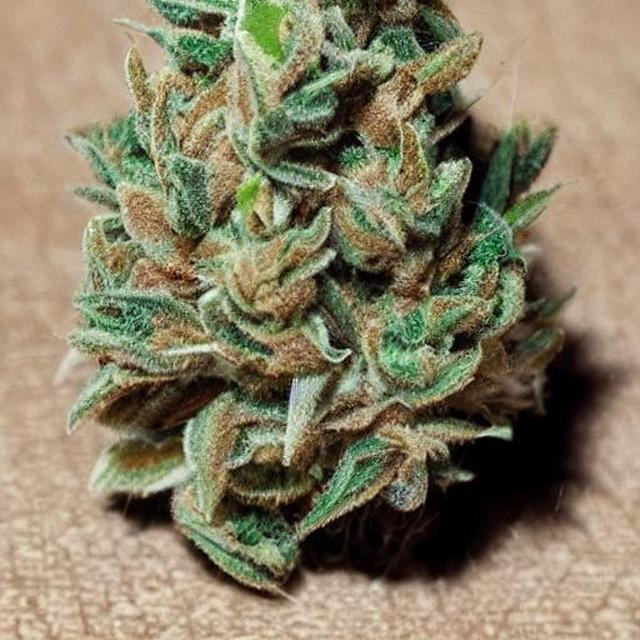Marijuana Plant: (0, 0, 611, 639)
